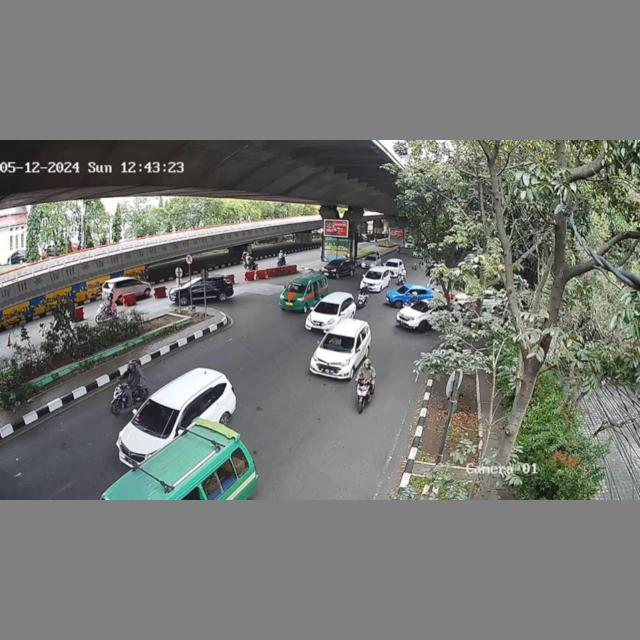windshield: (132, 398, 178, 431), (321, 333, 353, 352), (312, 299, 340, 317), (284, 280, 309, 297)
